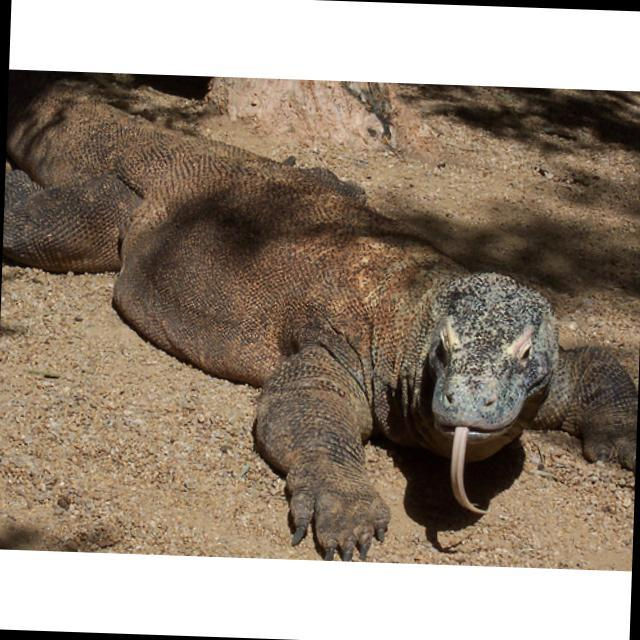KomodoDragon: (0, 75, 640, 566)
